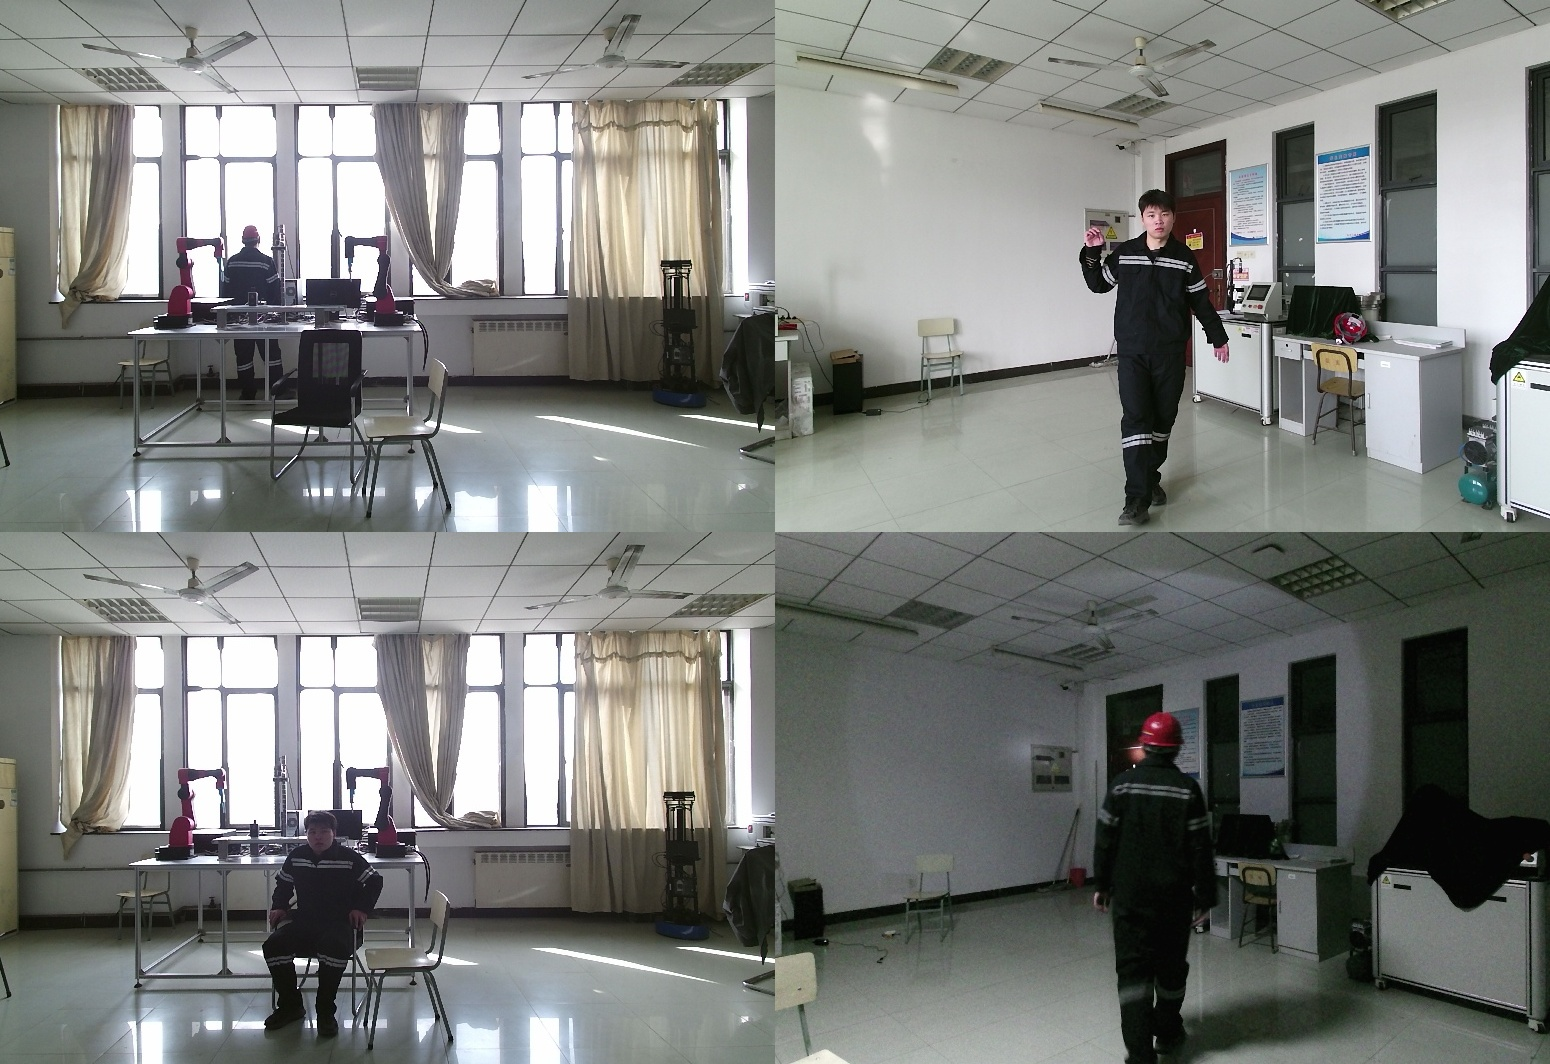person: (1080, 191, 1232, 521), (1088, 710, 1227, 1064), (264, 812, 390, 1036), (219, 226, 293, 409)
